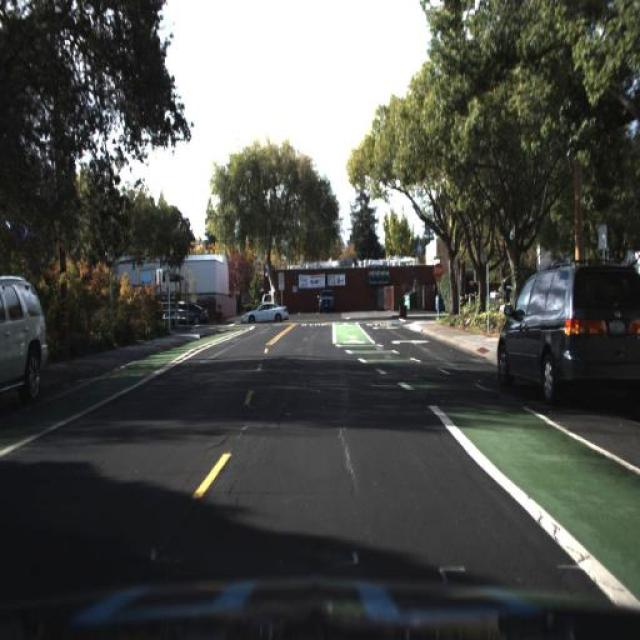car: (498, 247, 640, 408), (0, 270, 50, 410), (238, 299, 292, 323), (170, 296, 208, 328), (168, 296, 208, 324), (240, 300, 289, 322), (316, 286, 338, 318), (318, 288, 339, 314)
